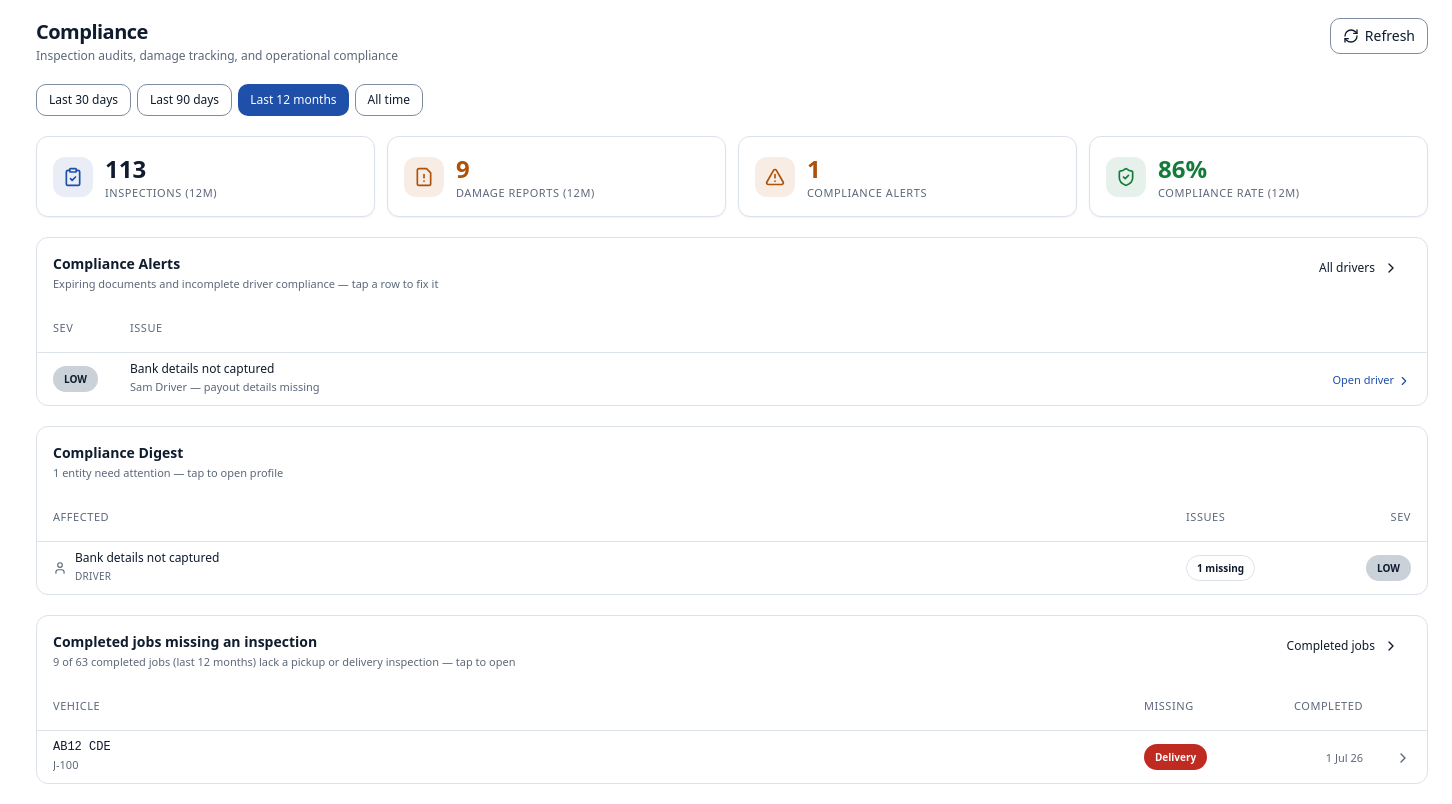
Test case: ControlCompliance page › period selector re-queries with the chosen period
Step 1. Click the radio button labelled "Last 90 days" → (185, 100), box [137,84,232,116]
(page scrolled)
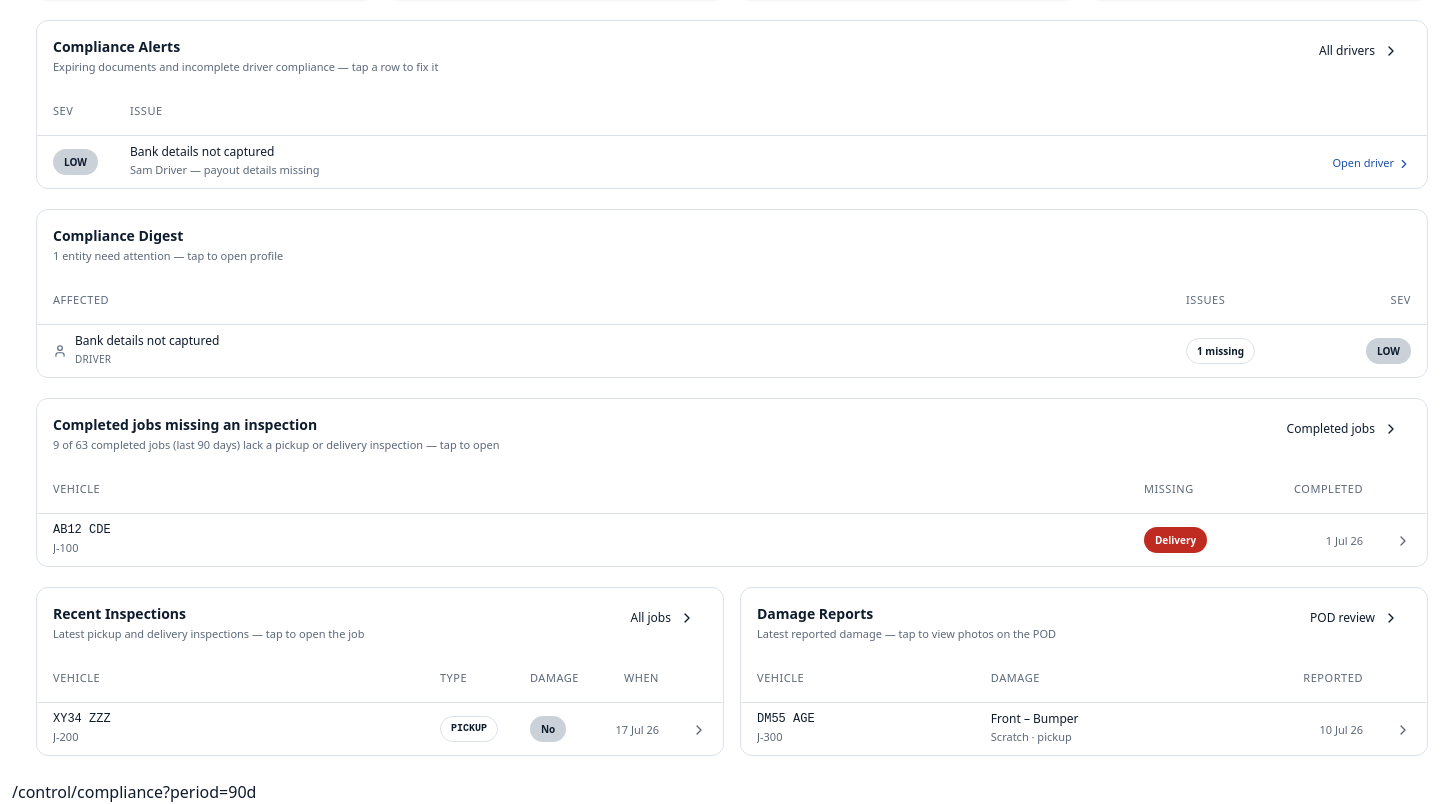
Expected: the text with test id "location" shows "period=90d", [12,781,256,803]
